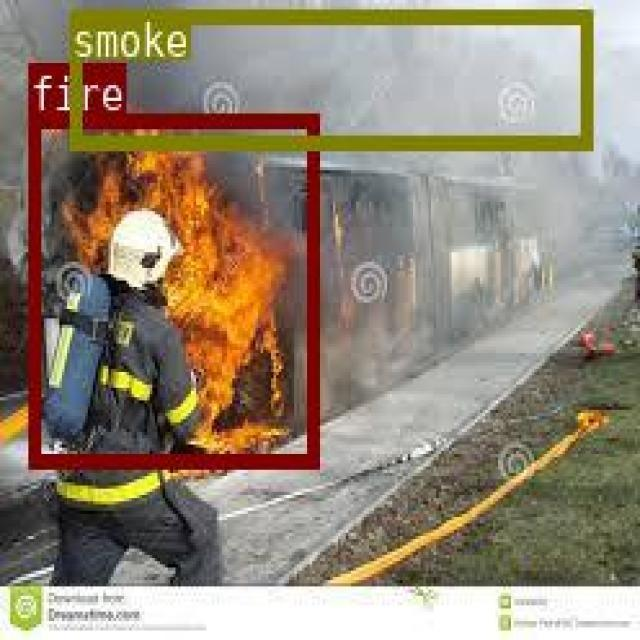fire: (27, 111, 317, 466)
smoke: (69, 8, 591, 146)
